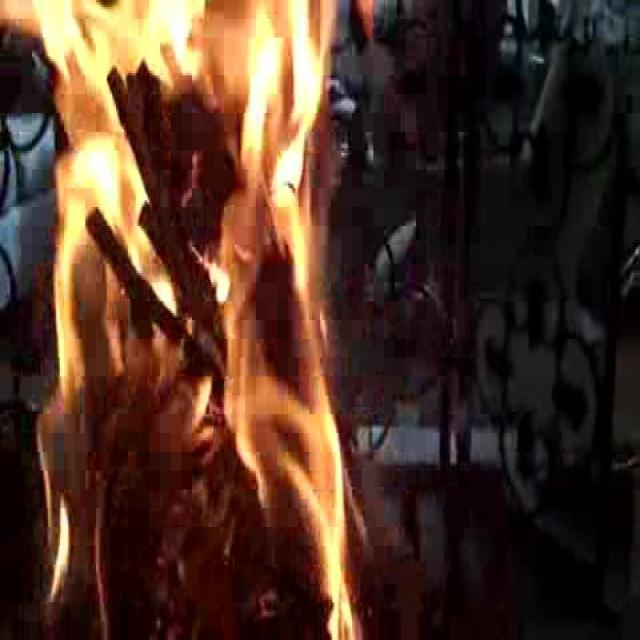fire: (29, 9, 335, 620)
